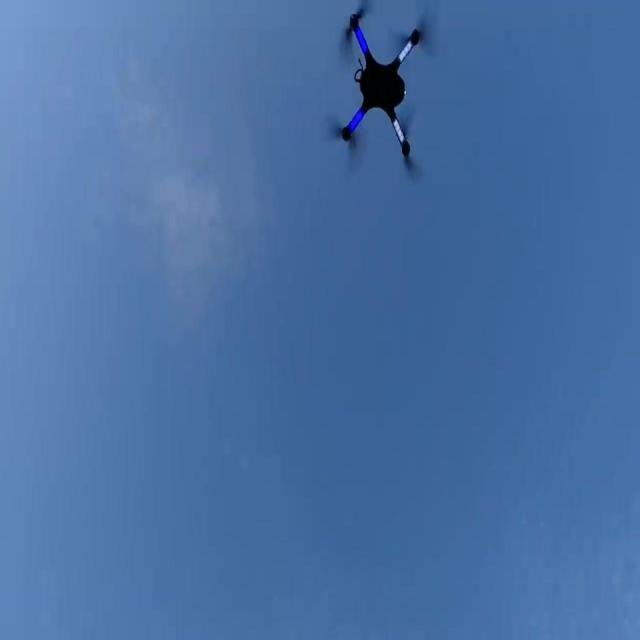UAV: (324, 0, 439, 181)
